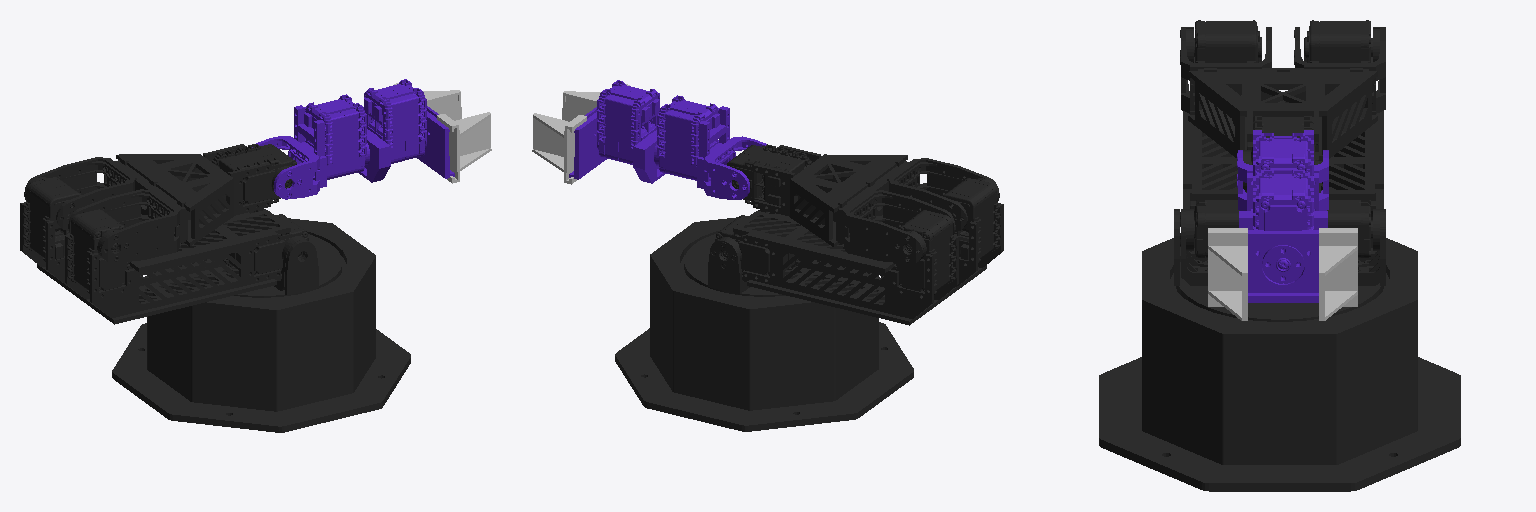
robot.urdf — reactor:
<robot
  name="reactor">
   <material name="light_gray">
    <color rgba="0.8 0.8 0.8 1"/>
  </material>
  <material name="dark_gray">
    <color rgba="0.2 0.2 0.2 1"/>
  </material>
  <material name="surprise">
    <color rgba="0.4 0.2 0.8 1"/>
  </material>
  <link
    name="base_link">
    <inertial>
      <origin
        xyz="-3.9657E-09 2.0144E-09 0.04262"
        rpy="0 0 0" />
      <mass
        value="0.33742" />
      <inertia
        ixx="0.0011303"
        ixy="2.3398E-15"
        ixz="5.3844E-11"
        iyy="0.0011303"
        iyz="-2.735E-11"
        izz="0.0016747" />
    </inertial>
    <visual>
      <origin
        xyz="0 0 0"
        rpy="0 0 0" />
      <geometry>
        <mesh
          filename="package://reactor_description/meshes/base_link.STL" />
      </geometry>
    <material name="dark_gray"/>
    </visual>
    <collision>
      <origin
        xyz="0 0 0"
        rpy="0 0 0" />
      <geometry>
        <mesh
          filename="package://reactor_description/meshes/base_link_hull.STL" />
      </geometry>
    </collision>
  </link>
  <link
    name="shoulder_link">
    <inertial>
      <origin
        xyz="5.5296E-07 0.00048339 0.0026355"
        rpy="0 0 0" />
      <mass
        value="0.069055" />
      <inertia
        ixx="7.786E-05"
        ixy="4.5909E-11"
        ixz="-6.4873E-11"
        iyy="4.1745E-05"
        iyz="2.8244E-07"
        izz="0.0001073" />
    </inertial>
    <visual>
      <origin
        xyz="0 0 0"
        rpy="0 0 0" />
      <geometry>
        <mesh
          filename="package://reactor_description/meshes/shoulder_link.STL" />
      </geometry>
    <material name="dark_gray"/>
    </visual>
    <collision>
      <origin
        xyz="0 0 0"
        rpy="0 0 0" />
      <geometry>
        <mesh
          filename="package://reactor_description/meshes/shoulder_link_hull.STL" />
      </geometry>
    </collision>
  </link>
  <joint
    name="shoulder_yaw"
    type="revolute">
    <origin
      xyz="0 0 0.081"
      rpy="0 0 0" />
    <parent
      link="base_link" />
    <child
      link="shoulder_link"/>
    <axis
      xyz="0 0 1" />
    <limit
      effort="1.5"
      velocity="6.178465545" 
      lower="-3.141593"
      upper="3.141593" />
  </joint>
  <link
    name="bicep_link">
    <inertial>
      <origin
        xyz="-0.079312 0.00175 0.0073486"
        rpy="0 0 0" />
      <mass
        value="0.29331" />
      <inertia
        ixx="0.00040741"
        ixy="-1.1578E-09"
        ixz="-0.00014106"
        iyy="0.0010604"
        iyz="1.1578E-09"
        izz="0.0012838" />
    </inertial>
    <visual>
      <origin
        xyz="0 0 0"
        rpy="0 0 0" />
      <geometry>
        <mesh
          filename="package://reactor_description/meshes/bicep_link.STL" />
      </geometry>
    <material name="dark_gray"/>
    </visual>
    <collision>
      <origin
        xyz="0 0 0"
        rpy="0 0 0" />
      <geometry>
        <mesh
          filename="package://reactor_description/meshes/bicep_link_hull.STL" />
      </geometry>
    </collision>
  </link>
  <joint
    name="shoulder_pitch"
    type="revolute">
    <origin
      xyz="0 0 0.0265"
      rpy="0 0 0" />
    <parent
      link="shoulder_link" />
    <child
      link="bicep_link" />
    <axis
      xyz="0 1 0" />
    <limit
      effort="3.0"
      velocity="6.178465545" 
      lower="-1.57"
      upper="3.141593" />
  </joint>
  <link
    name="forearm_link">
    <inertial>
      <origin
        xyz="0.0851888339312843 0.00136288621406396 -0.000141576344087929"
        rpy="0 0 0" />
      <mass
        value="0.138705662443181" />
      <inertia
        ixx="9.73074886909647E-05"
        ixy="-2.7259894490049E-06"
        ixz="8.2757647661483E-07"
        iyy="0.000291190570207828"
        iyz="-7.99252279784603E-09"
        izz="0.000367301178753318" />
    </inertial>
    <visual>
      <origin
        xyz="0 0 0"
        rpy="0 0 0" />
      <geometry>
        <mesh
          filename="package://reactor_description/meshes/forearm_link.STL" />
      </geometry>
    <material name="dark_gray"/>
    </visual>
    <collision>
      <origin
        xyz="0 0 0"
        rpy="0 0 0" />
      <geometry>
        <mesh
          filename="package://reactor_description/meshes/forearm_link_hull.STL" />
      </geometry>
    </collision>
  </link>
  <joint
    name="elbow_pitch"
    type="revolute">
    <origin
      xyz="-0.1445 0 0.0385"
      rpy="0 0 0" />
    <parent
      link="bicep_link" />
    <child
      link="forearm_link" />
    <axis
      xyz="0 1 0" />
    <limit
      effort="3.0"
      velocity="6.178465545" 
      lower="-3.141593"
      upper="1.57" />
  </joint>
  <link
    name="wrist_1">
    <inertial>
      <origin
        xyz="0.0426453655090486 0.0017494960392062 0.00984847105297723"
        rpy="0 0 0" />
      <mass
        value="0.0605067986491363" />
      <inertia
        ixx="1.78648656995261E-05"
        ixy="1.11621731933541E-10"
        ixz="3.58888722407994E-06"
        iyy="2.8352036542644E-05"
        iyz="-2.18072661043818E-10"
        izz="2.38673851634115E-05" />
    </inertial>
    <visual>
      <origin
        xyz="0 0 0"
        rpy="0 0 0" />
      <geometry>
        <mesh
          filename="package://reactor_description/meshes/wrist_1.STL" />
      </geometry>
    <material name="surprise"/>
    </visual>
    <collision>
      <origin
        xyz="0 0 0"
        rpy="0 0 0" />
      <geometry>
        <mesh
          filename="package://reactor_description/meshes/wrist_1_hull.STL" />
      </geometry>
    </collision>
  </link>
  <joint
    name="wrist_pitch"
    type="revolute">
    <origin
      xyz="0.1535 0 0"
      rpy="0 0 0" />
    <parent
      link="forearm_link" />
    <child
      link="wrist_1" />
    <axis
      xyz="0 1 0" />
    <limit
      effort="1.5"
      velocity="6.178465545" 
      lower="-2"
      upper="2" />
  </joint>
  <link
    name="wrist_2">
    <inertial>
      <origin
        xyz="0.0257033323112986 -4.70323974922438E-07 0.00799551302154672"
        rpy="0 0 0" />
      <mass
        value="0.0648521292346638" />
      <inertia
        ixx="2.26217268610599E-05"
        ixy="3.18902648619731E-10"
        ixz="1.6408102941381E-06"
        iyy="2.80862620457571E-05"
        iyz="-2.80885432326681E-10"
        izz="2.36871265523198E-05" />
    </inertial>
    <visual>
      <origin
        xyz="0 0 0"
        rpy="0 0 0" />
      <geometry>
        <mesh
          filename="package://reactor_description/meshes/wrist_2.STL" />
      </geometry>
      <material name="surprise"/>
    </visual>
    <collision>
      <origin
        xyz="0 0 0"
        rpy="0 0 0" />
      <geometry>
        <mesh
          filename="package://reactor_description/meshes/wrist_2_hull.STL" />
      </geometry>
    </collision>
  </link>
  <joint
    name="wrist_roll"
    type="revolute">
    <origin
      xyz="0.071 0.00175 0"
      rpy="0 0 0" />
    <parent
      link="wrist_1" />
    <child
      link="wrist_2" />
    <axis
      xyz="1 0 0" />
    <limit
      effort="1.5"
      velocity="6.178465545" 
      lower="-3.141593"
      upper="3.141593" />
  </joint>
  <link
    name="finger_link_1">
    <dynamics friction="5"/>
    <inertial>
      <origin
        xyz="0 -0.025883 -0.006455"
        rpy="0 0 0" />
      <mass
        value="0.0078621" />
      <inertia
        ixx="1.332E-06"
        ixy="-1.5154E-21"
        ixz="-1.2894E-21"
        iyy="1.3852E-06"
        iyz="2.7871E-07"
        izz="2.1828E-06" />
    </inertial>
    <visual>
      <origin
        xyz="0 0 0"
        rpy="0 0 0" />
      <geometry>
        <mesh
          filename="package://reactor_description/meshes/finger_link.STL" />
      </geometry>
    <material name="light_gray"/>
    </visual>
    <collision>
      <origin
        xyz="0 0 0"
        rpy="0 0 0" />
      <geometry>
        <mesh
          filename="package://reactor_description/meshes/finger_link_hull.STL" />
      </geometry>
    </collision>
  </link>
  <joint
    name="finger_joint"
    type="prismatic">
    <origin
      xyz="0.088882 -0.0187500 0.0012072"
      rpy="1.5708 -1.5572 -3.1416" />
    <parent
      link="wrist_2" />
    <child
      link="finger_link_1" />
    <axis
      xyz="0 0 1" />
    <limit
      effort="1.5"
      velocity="0.01"
      lower="0"
      upper="0.014" />
  </joint>
  <link
    name="finger_link_2">
    <dynamics friction="5"/>
    <inertial>
      <origin
        xyz="8.3267E-17 -0.025883 -0.006455"
        rpy="0 0 0" />
      <mass
        value="0.0078621" />
      <inertia
        ixx="1.332E-06"
        ixy="-3.1416E-21"
        ixz="-2.193E-21"
        iyy="1.3852E-06"
        iyz="2.7871E-07"
        izz="2.1828E-06" />
    </inertial>
    <visual>
      <origin
        xyz="0 0 0"
        rpy="0 0 0" />
      <geometry>
        <mesh
          filename="package://reactor_description/meshes/finger_link.STL" />
      </geometry>
    <material name="light_gray"/>
    </visual>
    <collision>
      <origin
        xyz="0 0 0"
        rpy="0 0 0" />
      <geometry>
        <mesh
          filename="package://reactor_description/meshes/finger_link_hull.STL" />
      </geometry>
    </collision>
  </link>
  <joint
    name="finger_joint_2"
    type="prismatic">
    <origin
      xyz="0.088882 0.0187500 0.0012072"
      rpy="1.5708 1.5572 -1.4508E-15" />
    <parent
      link="wrist_2" />
    <child
      link="finger_link_2" />
    <axis
      xyz="0 0 1" />
    <limit
      effort="1.5"
      velocity="0.01"
      lower="0"
      upper="0.014" />
    <mimic
      joint="finger_joint" />
  </joint>
</robot>

--- Render facts (derived) ---
Views: 3 orthographic renders of the robot side by side, from view 1: azimuth 30°, elevation 25°; view 2: azimuth 150°, elevation 25°; view 3: azimuth 270°, elevation 25°.
Model reactor with 8 links and 7 joints (5 revolute, 2 prismatic), rooted at base_link, posed all joints at 0.
Visible links, largest first — view 1: base_link, bicep_link, forearm_link, wrist_1, wrist_2, shoulder_link, finger_link_1, finger_link_2; view 2: base_link, bicep_link, forearm_link, wrist_1, wrist_2, shoulder_link, finger_link_2, finger_link_1; view 3: base_link, bicep_link, forearm_link, wrist_2, shoulder_link, wrist_1, finger_link_1, finger_link_2.
Boxes of the visible links, left/top/right/bottom form: base_link: left=112, top=218, right=410, bottom=432; bicep_link: left=20, top=177, right=308, bottom=324; forearm_link: left=24, top=144, right=296, bottom=262; wrist_1: left=252, top=94, right=369, bottom=199; wrist_2: left=359, top=79, right=454, bottom=182; shoulder_link: left=181, top=209, right=341, bottom=297; finger_link_1: left=437, top=112, right=491, bottom=183; finger_link_2: left=394, top=83, right=461, bottom=120; base_link: left=615, top=217, right=913, bottom=431; bicep_link: left=715, top=178, right=1003, bottom=325; forearm_link: left=727, top=144, right=999, bottom=263; wrist_1: left=654, top=95, right=766, bottom=199; wrist_2: left=569, top=80, right=665, bottom=183; shoulder_link: left=684, top=210, right=842, bottom=296; finger_link_2: left=532, top=113, right=586, bottom=184; finger_link_1: left=562, top=84, right=629, bottom=121; base_link: left=1099, top=238, right=1460, bottom=491; bicep_link: left=1183, top=20, right=1383, bottom=258; forearm_link: left=1180, top=27, right=1385, bottom=191; wrist_2: left=1239, top=170, right=1327, bottom=302; shoulder_link: left=1174, top=209, right=1385, bottom=321; wrist_1: left=1237, top=130, right=1328, bottom=210; finger_link_1: left=1208, top=228, right=1247, bottom=320; finger_link_2: left=1319, top=228, right=1357, bottom=320.
Size in the robot's own frame: 0.3296 by 0.1907 by 0.1851 metres.
8 mesh visuals loaded from 7 distinct referenced files (7 binary STL).
